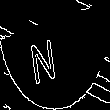N_N: (40, 26, 70, 84)
